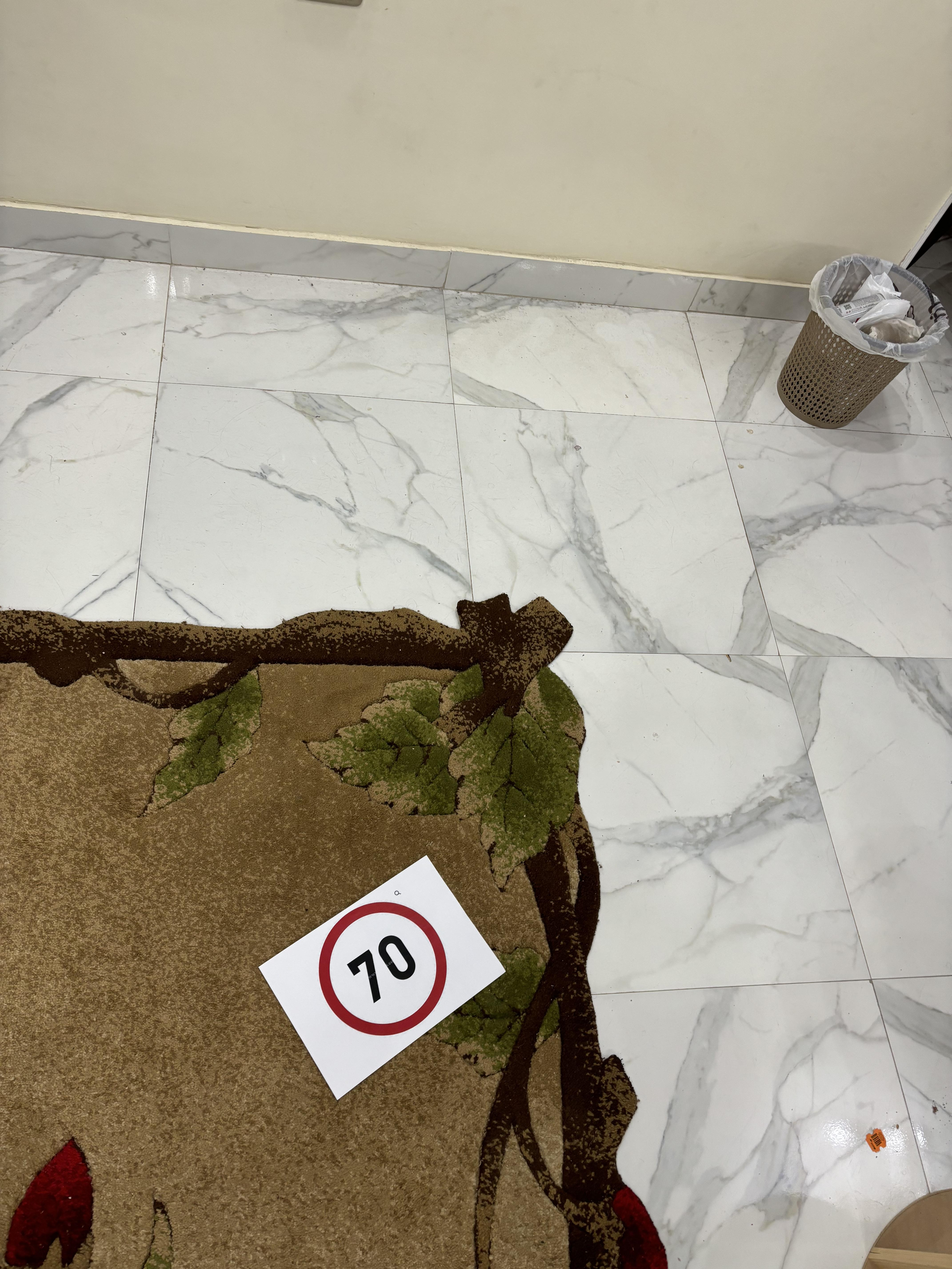70-Speed: (314, 900, 447, 1037)
